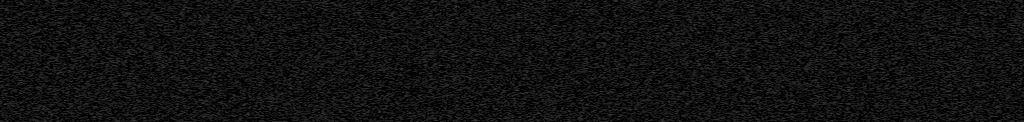wv_am: (196, 0, 202, 122)
wv_cw: (844, 0, 850, 122)
wv_lsb: (831, 9, 838, 122), (827, 2, 833, 122), (908, 38, 916, 122), (910, 3, 915, 9), (910, 23, 915, 28), (833, 2, 837, 8), (910, 17, 915, 21), (910, 10, 915, 14), (910, 29, 914, 32)
wv_usb: (946, 28, 954, 95), (842, 17, 847, 122), (849, 2, 855, 83), (850, 83, 855, 122), (946, 107, 953, 122), (843, 3, 847, 8), (947, 5, 951, 9), (843, 9, 847, 13)
wv_wbfm: (476, 9, 606, 67), (448, 87, 622, 122), (531, 78, 546, 86), (516, 4, 540, 9), (551, 78, 565, 86), (535, 65, 550, 72), (535, 4, 560, 8), (555, 4, 578, 8), (555, 66, 566, 72), (516, 66, 527, 72), (575, 66, 585, 72), (497, 66, 507, 72), (512, 82, 526, 86), (512, 78, 526, 82), (552, 74, 563, 77), (533, 74, 544, 77), (513, 74, 524, 77), (577, 82, 584, 85), (499, 82, 506, 85), (599, 82, 602, 85), (482, 82, 485, 85)
